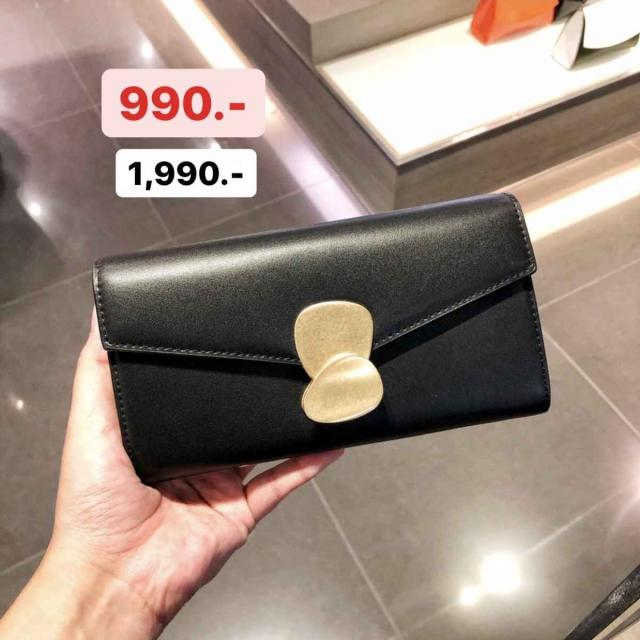Handbag: (103, 192, 556, 472)
